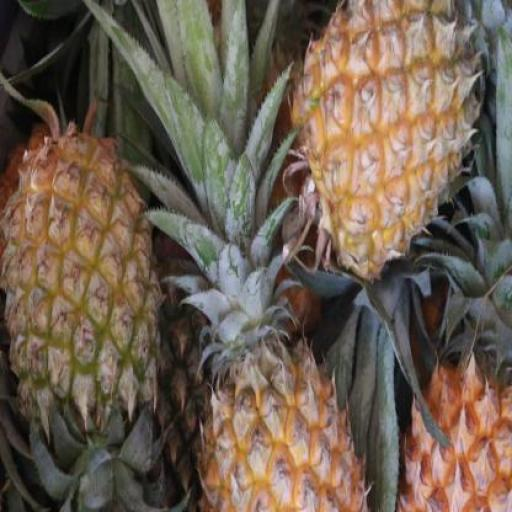------------------------------: (0, 114, 160, 414)
Pineapple - v8 v1: (286, 4, 494, 276), (190, 335, 368, 512), (391, 346, 512, 512)
